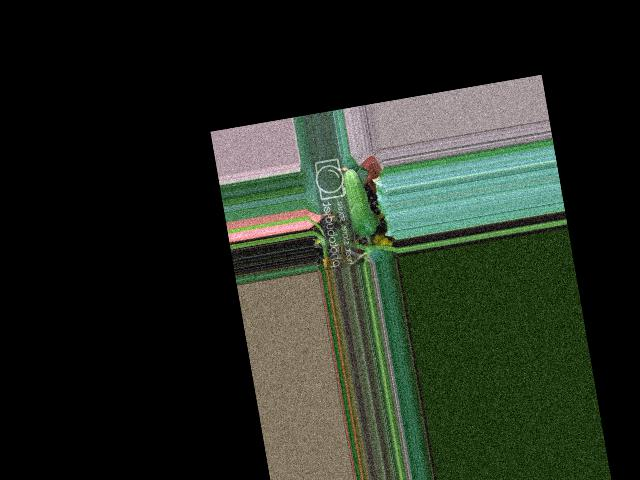cucumber: (338, 165, 377, 238)
